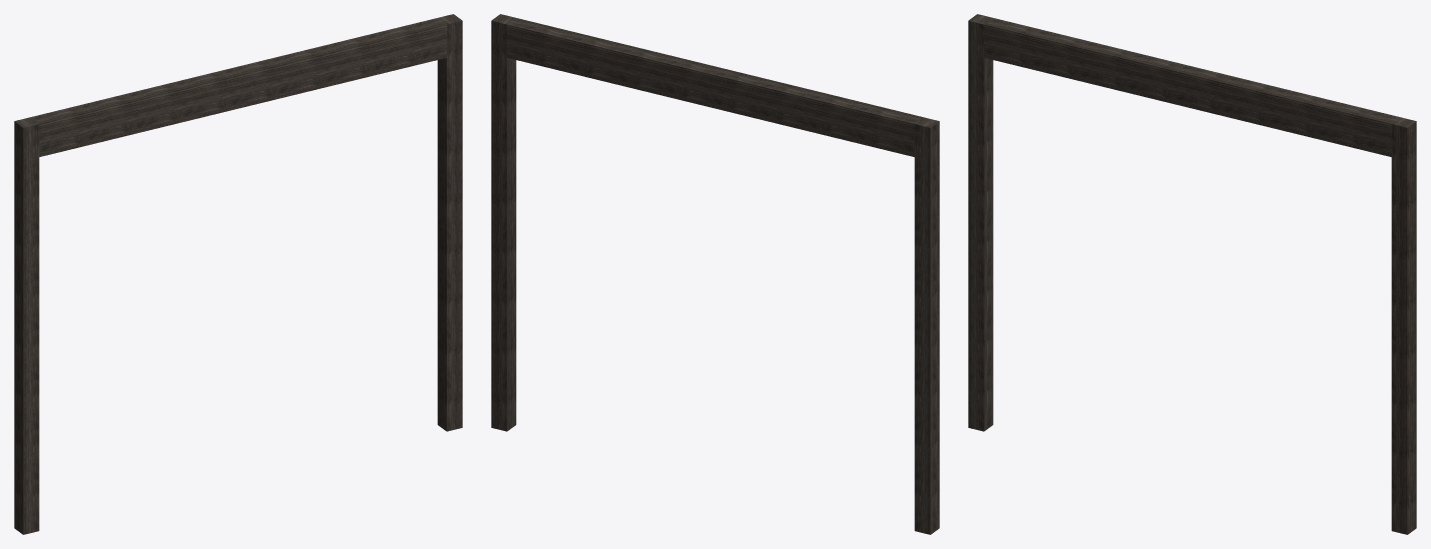
File: hyr-frame_h22-w27_blackebony.fbx
3 views of the same model, side by side, from view 1: azimuth 30°, elevation 25°; view 2: azimuth 150°, elevation 25°; view 3: azimuth 330°, elevation 25° (orthographic).
Visible parts, largest first — view 1: hyr-frame_h22-w27_blackebony; view 2: hyr-frame_h22-w27_blackebony; view 3: hyr-frame_h22-w27_blackebony.
Part boxes in pixels (left/top/right/bottom): hyr-frame_h22-w27_blackebony: left=14, top=14, right=462, bottom=534; hyr-frame_h22-w27_blackebony: left=491, top=14, right=939, bottom=534; hyr-frame_h22-w27_blackebony: left=968, top=14, right=1416, bottom=534.
Bounding box in the file's own units: 277 × 245 × 10.
1 material, 1 textured.
